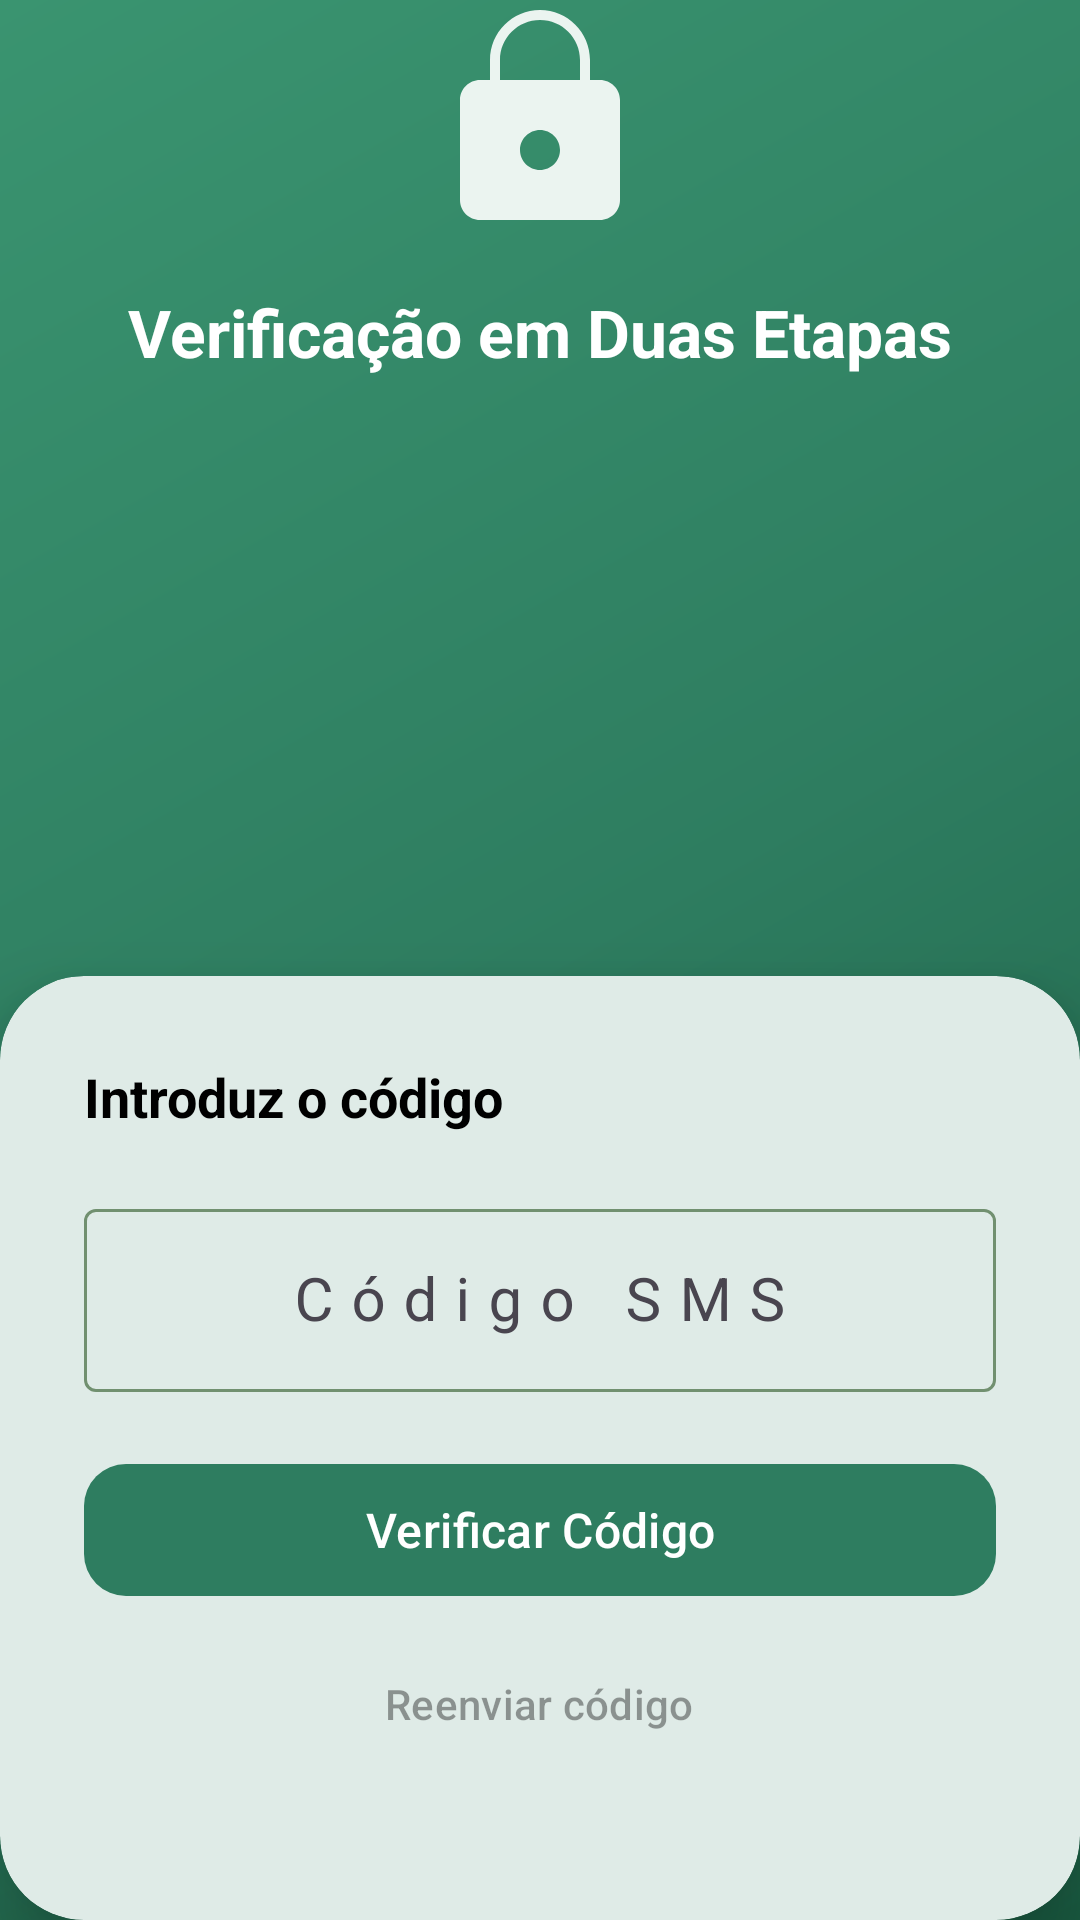

Point at icon controls on the screen. Image size 1080px x 1920px, points as (x=x, y=y).
lock: (x=540, y=115)
